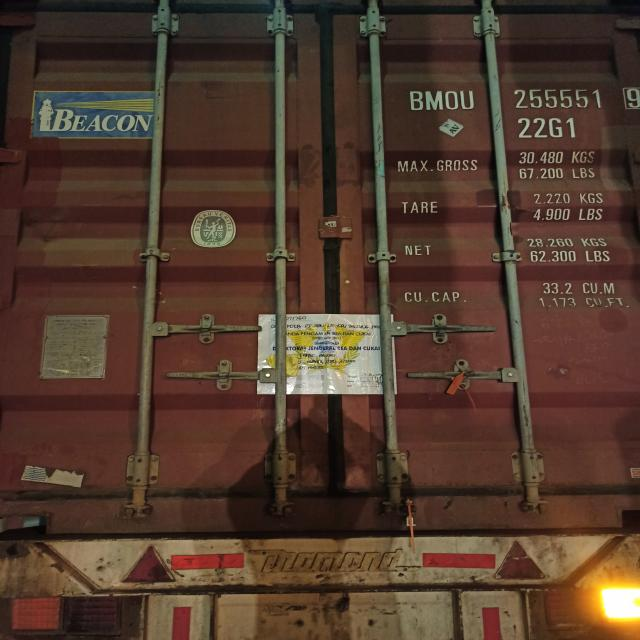seal: (447, 369, 474, 406), (403, 499, 422, 549)
